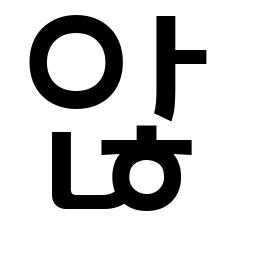Gaji: (145, 37, 194, 87)
